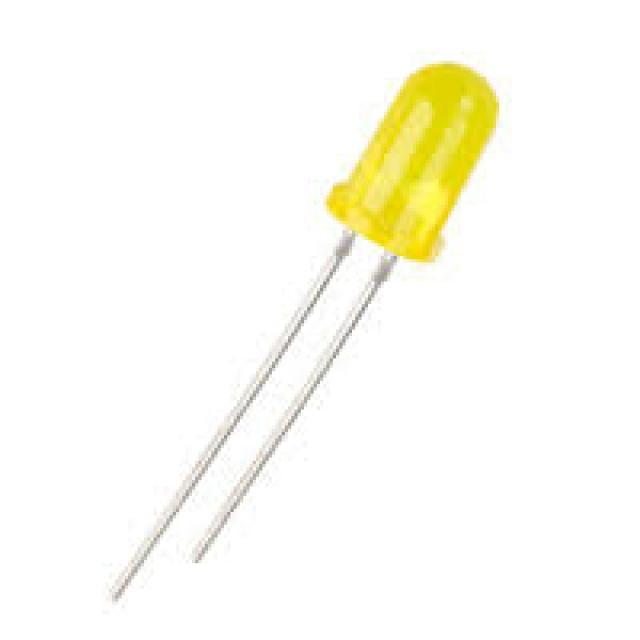Led: (111, 64, 498, 601)
